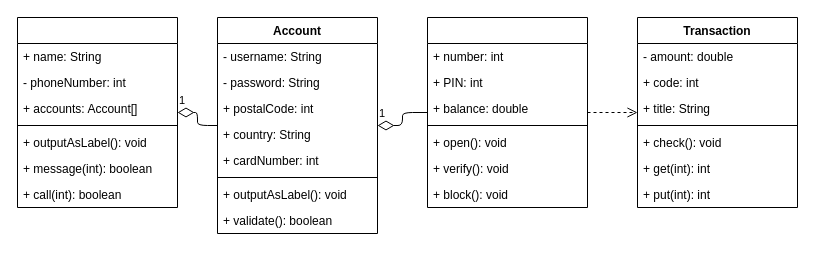
This 815x254 diagram has some shape labels left out. The shapes that lost their labels are listed below. From the top down, each one's box as (x1, y1, x2, y2) in pixels, then its label:
(16, 16, 178, 208): Customer
(426, 16, 588, 208): BankAccount
